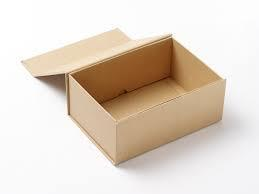box: (19, 27, 224, 166)
